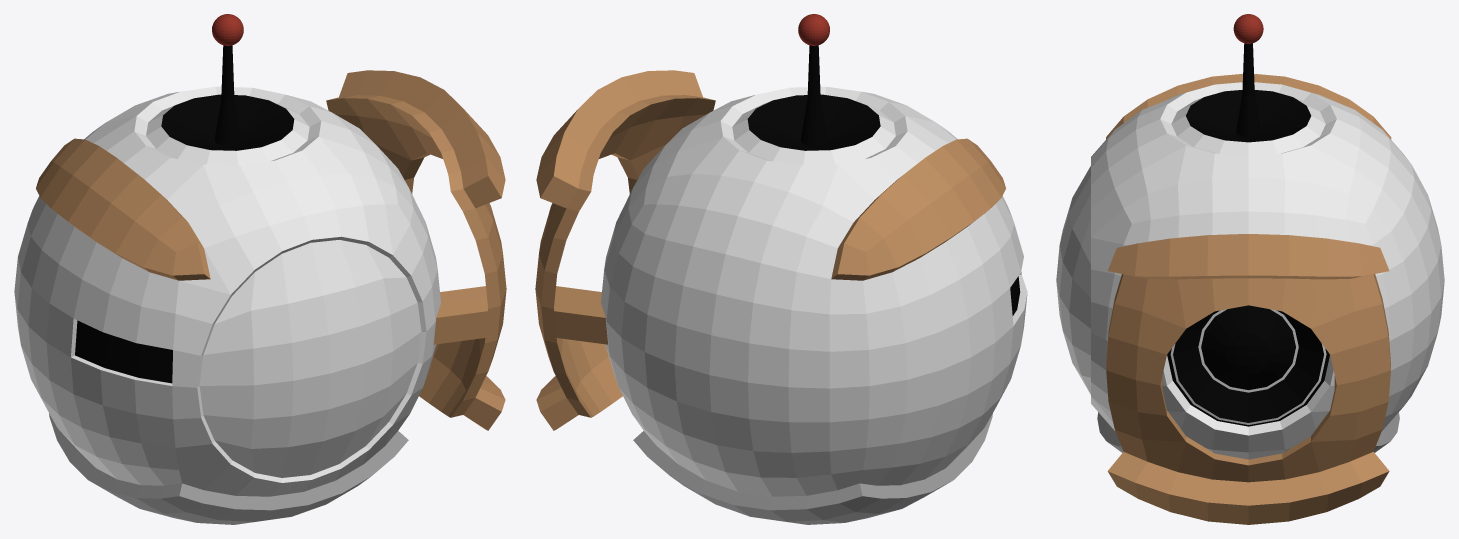
Rendered from little drone 2.fbx.
3 renders of one model, left to right at view 1: azimuth 30°, elevation 25°; view 2: azimuth 150°, elevation 25°; view 3: azimuth 270°, elevation 25°, orthographic. The views are drawn at different scales.
Visible parts, largest first — view 1: Cube.004; view 2: Cube.004; view 3: Cube.004.
Part boxes in pixels (x1,y1,x2,y2): Cube.004: (14, 14, 506, 524); Cube.004: (535, 14, 1027, 524); Cube.004: (1056, 14, 1444, 524).
Bounding box in the file's own units: 196 × 215 × 166.
